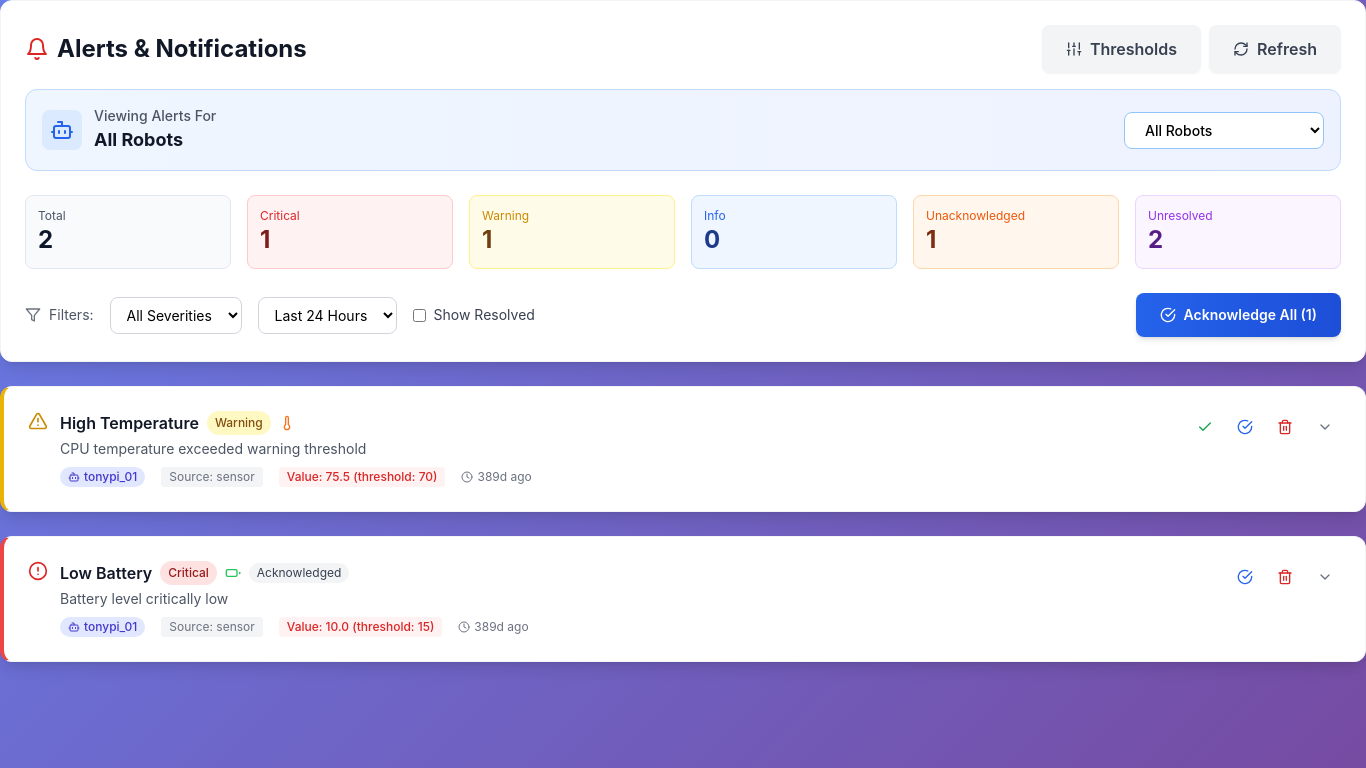
Scenario: Alerts Page - Threshold Modal › opens threshold modal when clicking thresholds button
What coordinates should you click on to do the following:
click the button "Thresholds"
I would click on:
 (1121, 49)
Its box is [1042,25,1201,73].
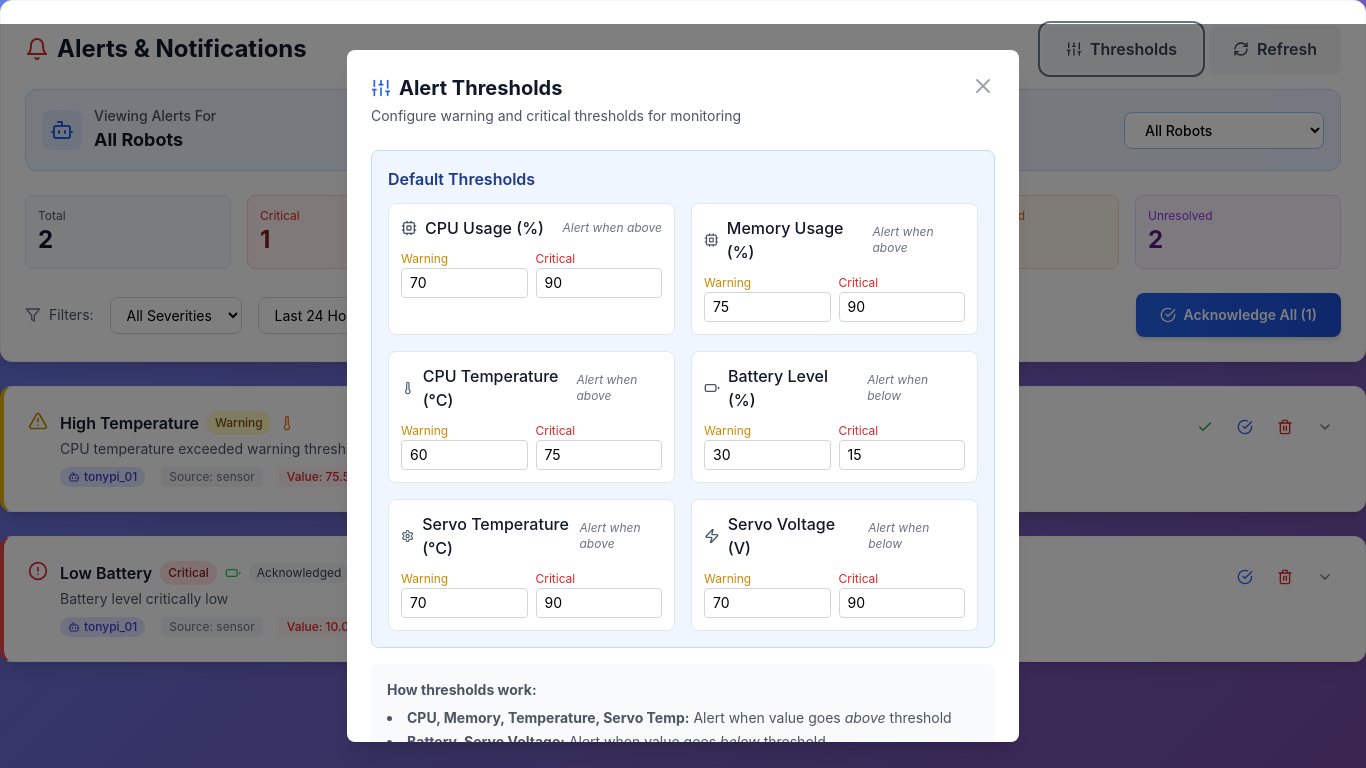
Now the heading "Alert Thresholds" is shown, box [371,76,562,100]
